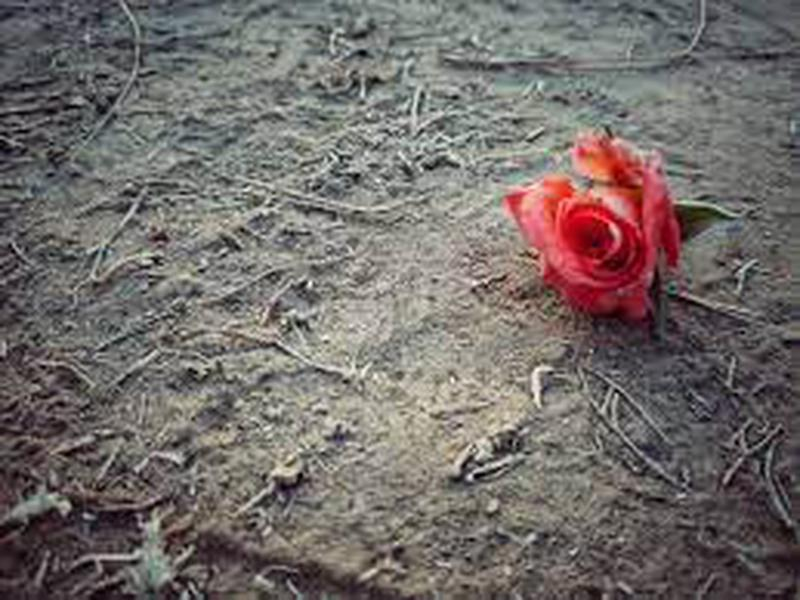flowers: (488, 113, 733, 341)
